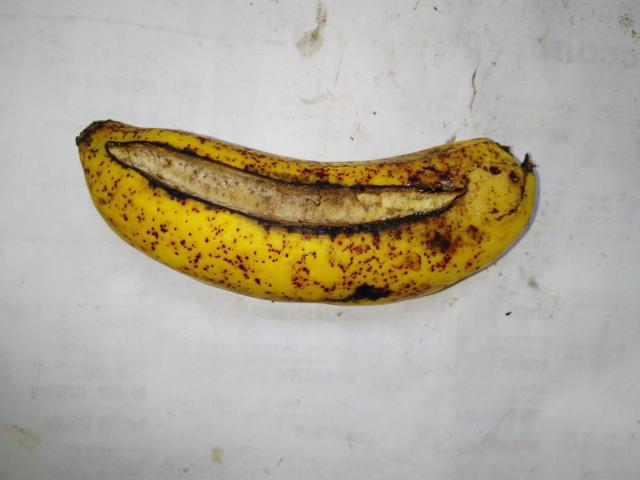ripe: (46, 93, 546, 323)
rotten: (107, 124, 462, 251)
